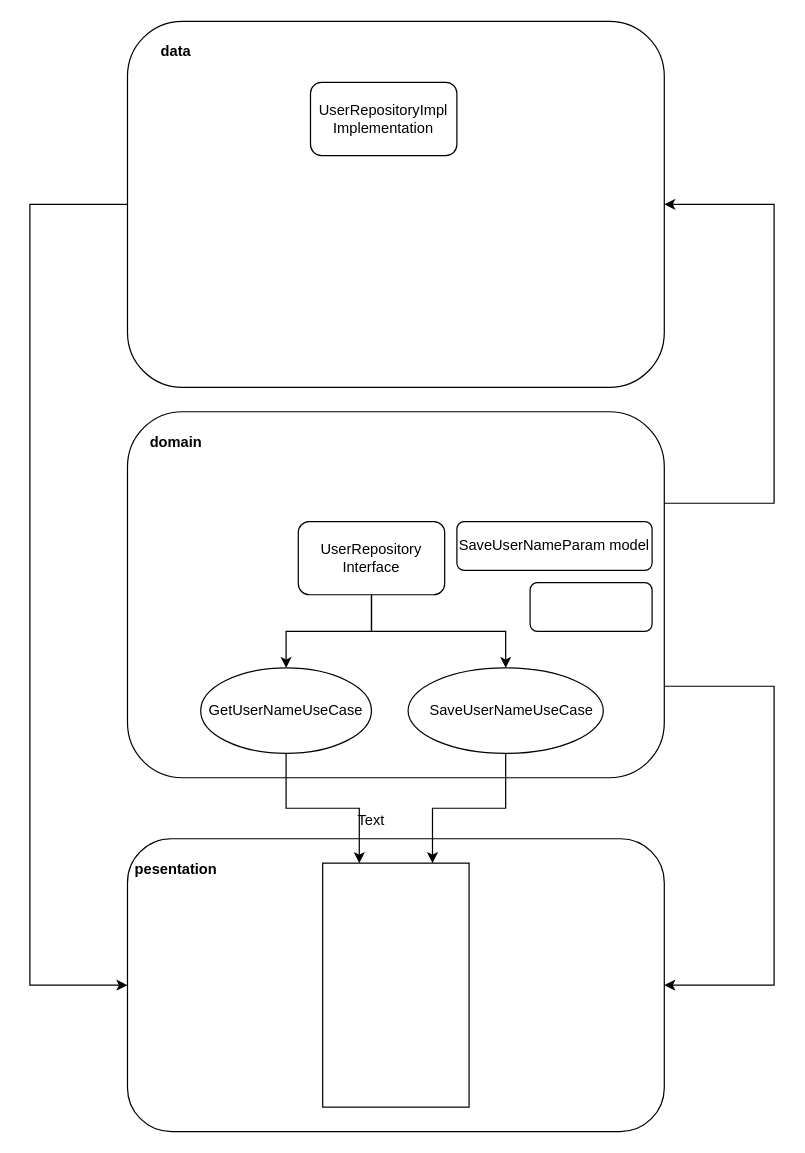
This 805x1153 diagram has some shape labels left out. Here are the shapes that lost their labels. From the top down, the centre of each, then its label:
At point (590, 606): "UserNameModel".
At point (395, 984): "Activity".
